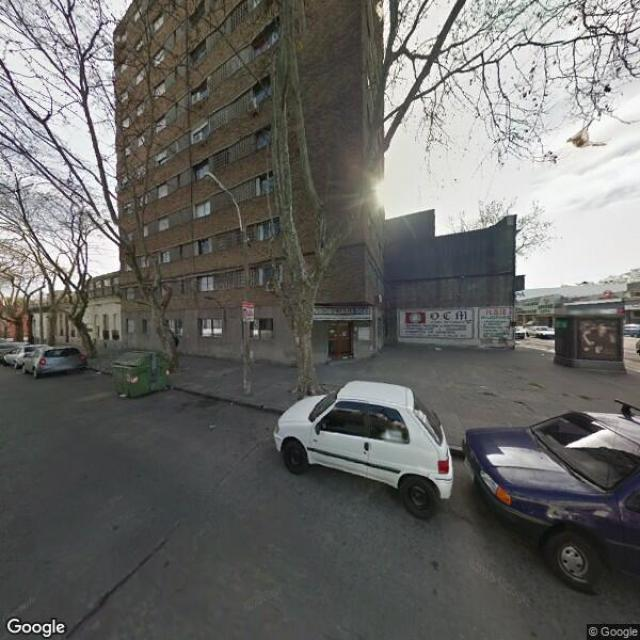garbage container: (102, 343, 182, 408)
